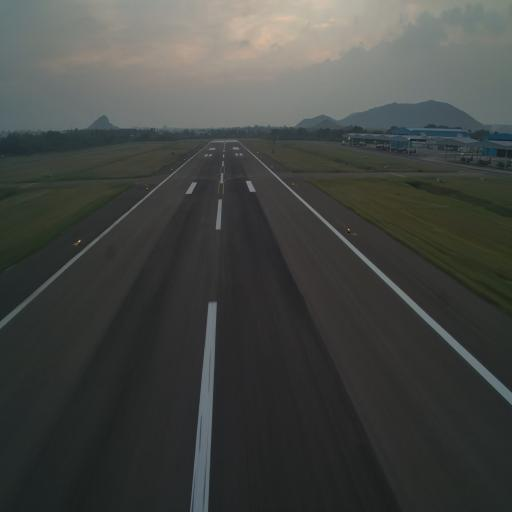on: (75, 236, 82, 249), (346, 224, 352, 236)
